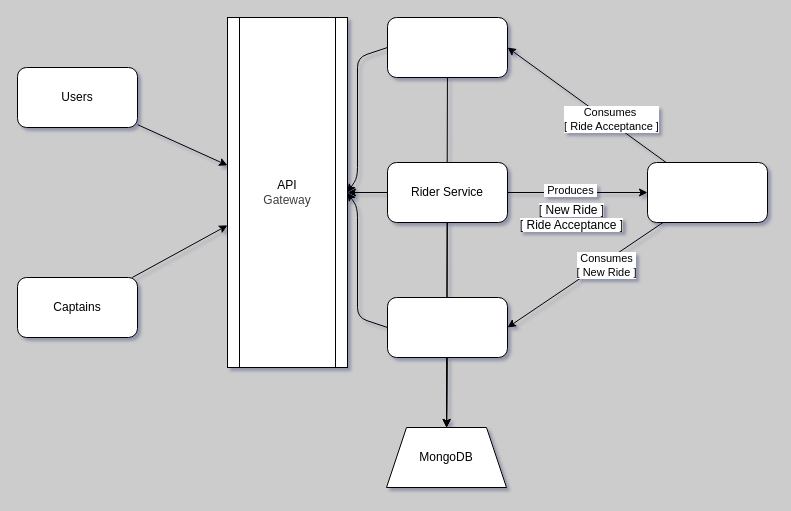
The diagram is 791 pixels wide and 511 high, and some of its shapes have lost their labels. The box of each missing label's shape, as (x1, y1, x2, y2) in pixels:
Captain Service: (386, 296, 508, 358)
RabbitMQ: (646, 162, 768, 222)
User Service: (386, 16, 508, 78)
